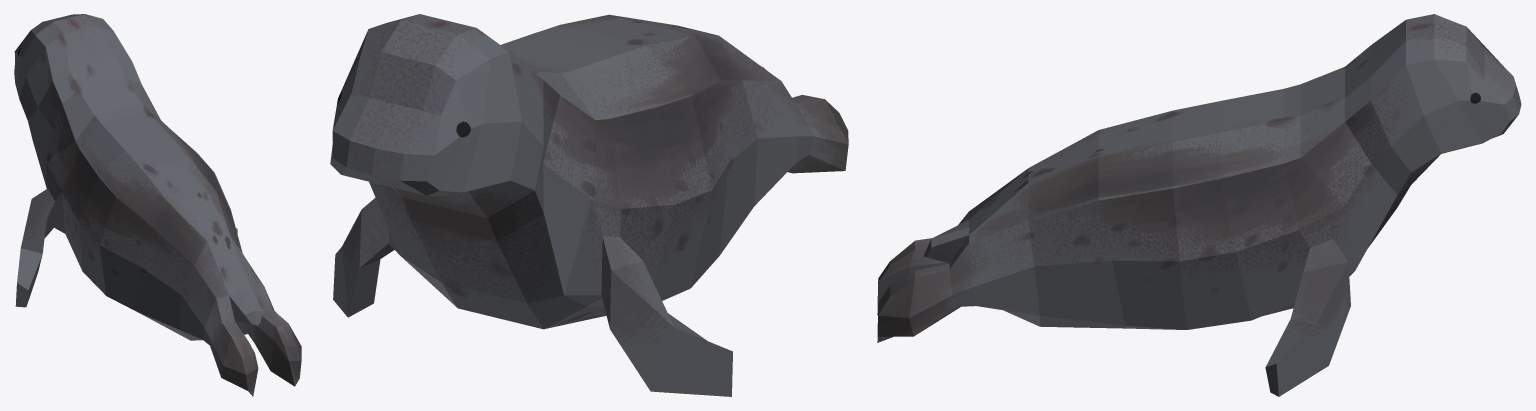
The model's file is Seal3.fbx.
The picture shows the model from 3 angles, left to right: view 1: azimuth 30°, elevation 25°; view 2: azimuth 150°, elevation 25°; view 3: azimuth 270°, elevation 25°; orthographic projection. The views are drawn at different scales.
Visible parts, largest first — view 1: Cube.001; view 2: Cube.001; view 3: Cube.001.
Part boxes in pixels (x1,y1,x2,y2): Cube.001: (14,14,301,396); Cube.001: (330,14,848,396); Cube.001: (877,14,1521,396).
Size of the model in its own units: 614 by 594 by 1138.
